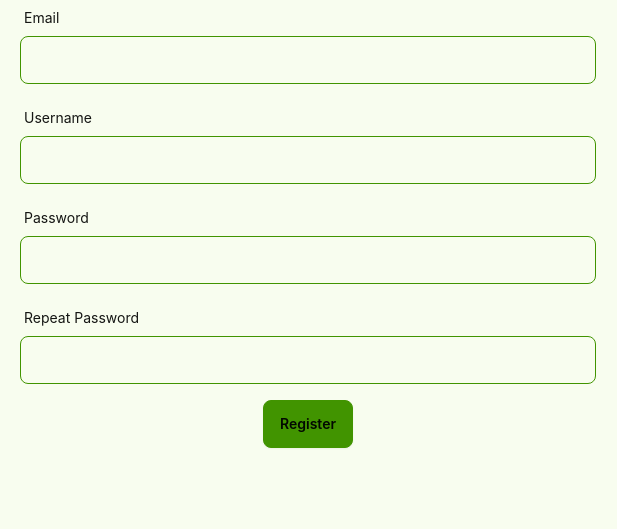
Scenario: FormRegister Component › should display email validation error for invalid email format
Step 1. Type "invalid-email" into the field labelled "Email" → (308, 60), box left=20, top=36, right=596, bottom=84
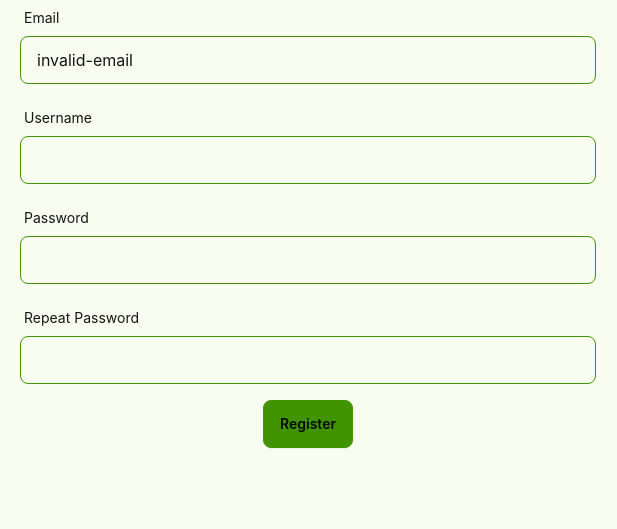
Step 2. Click the button "Register" → (308, 424), box left=263, top=400, right=353, bottom=448
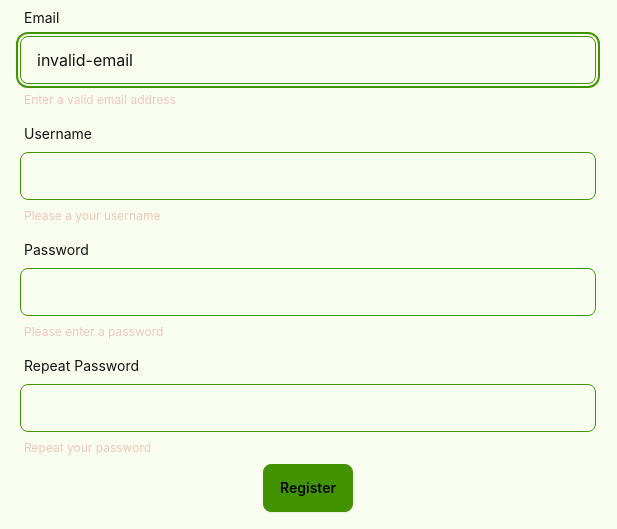
Expected: the text "Enter a valid email address" is shown, left=24, top=92, right=176, bottom=108
